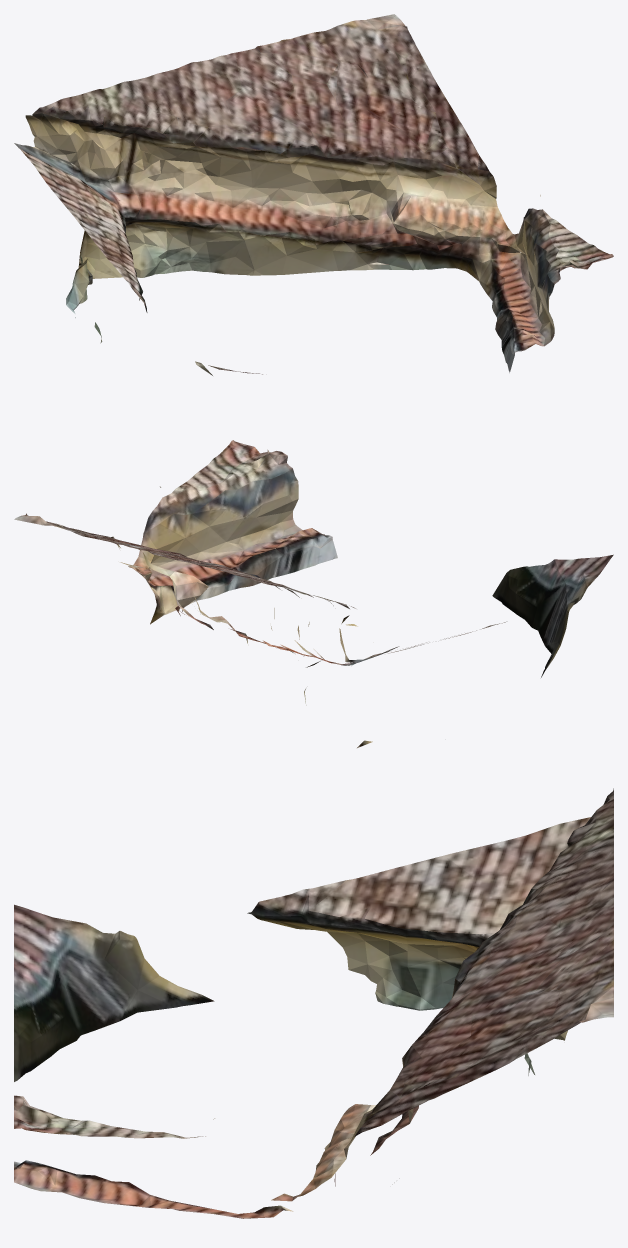
3 renders of one model, top to bottom at view 1: azimuth 30°, elevation 25°; view 2: azimuth 150°, elevation 25°; view 3: azimuth 270°, elevation 25°, orthographic. The views are drawn at different scales.
Size of the model in its own units: 6.7 by 2.98 by 6.7.
Materials: 2 (2 with a texture image).
